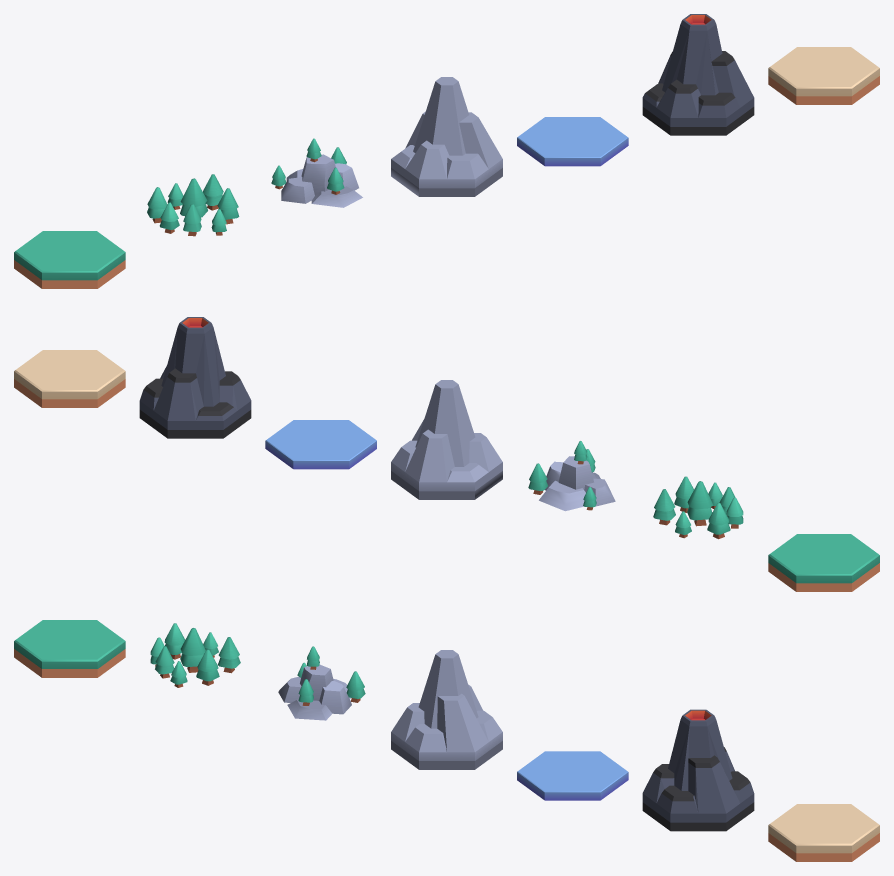
File: models.fbx
3 renders of one model, top to bottom at view 1: azimuth 30°, elevation 25°; view 2: azimuth 150°, elevation 25°; view 3: azimuth 330°, elevation 25°, orthographic.
Visible parts, largest first — view 1: volcano, mountain, sand, grass, water, hill, forest; view 2: volcano, mountain, sand, grass, water, hill, forest; view 3: volcano, mountain, grass, sand, water, hill, forest.
Boxes of the visible parts, box(x1,y1,x2,y2) form: volcano: box(642, 14, 754, 135); mountain: box(391, 77, 502, 196); sand: box(768, 47, 879, 104); grass: box(14, 231, 125, 288); water: box(517, 117, 628, 166); hill: box(271, 138, 362, 207); forest: box(147, 174, 239, 236); volcano: box(139, 317, 251, 438); mountain: box(391, 380, 502, 499); sand: box(14, 350, 125, 407); grass: box(768, 534, 879, 591); water: box(265, 420, 376, 469); hill: box(528, 441, 615, 511); forest: box(653, 476, 743, 539); volcano: box(642, 709, 754, 831); mountain: box(391, 650, 502, 769); grass: box(14, 620, 125, 677); sand: box(768, 804, 879, 861); water: box(517, 751, 628, 800); hill: box(278, 646, 365, 720); forest: box(150, 623, 240, 687).
Bounding box in the file's own units: 10 × 1.09 × 1.15.
